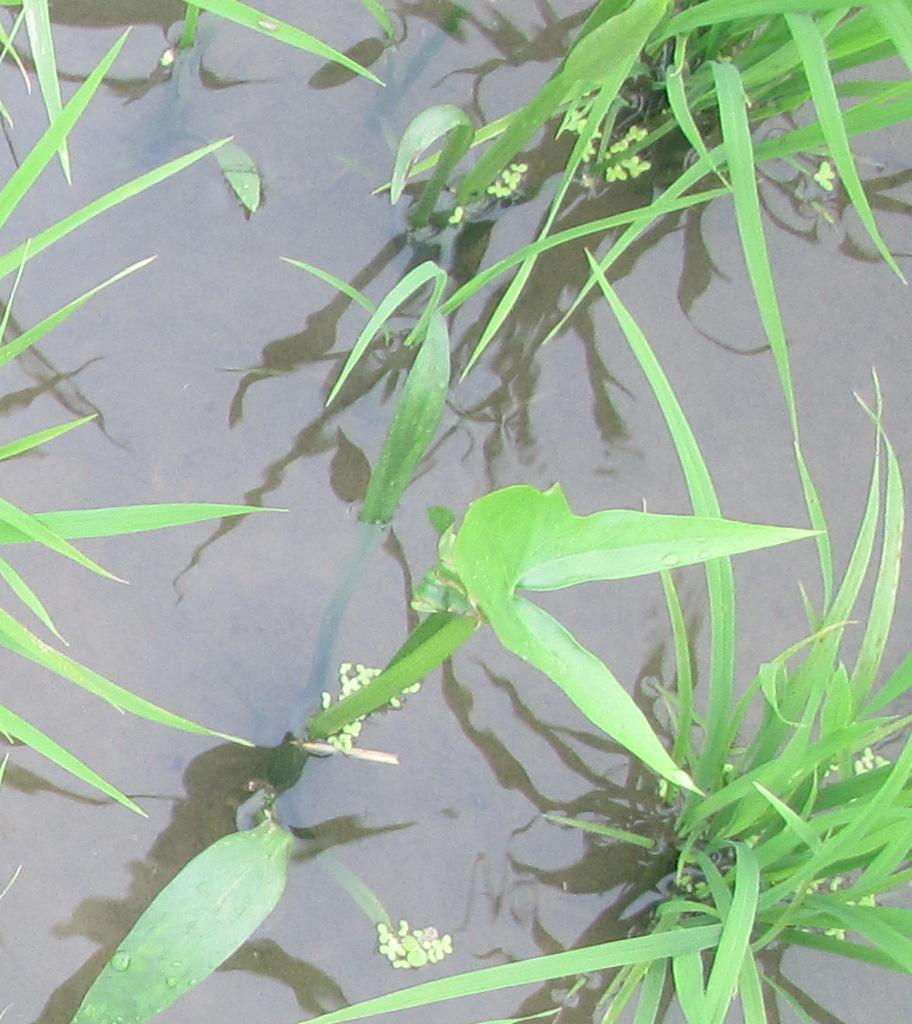Weed: (432, 483, 836, 671), (64, 819, 289, 1017)
